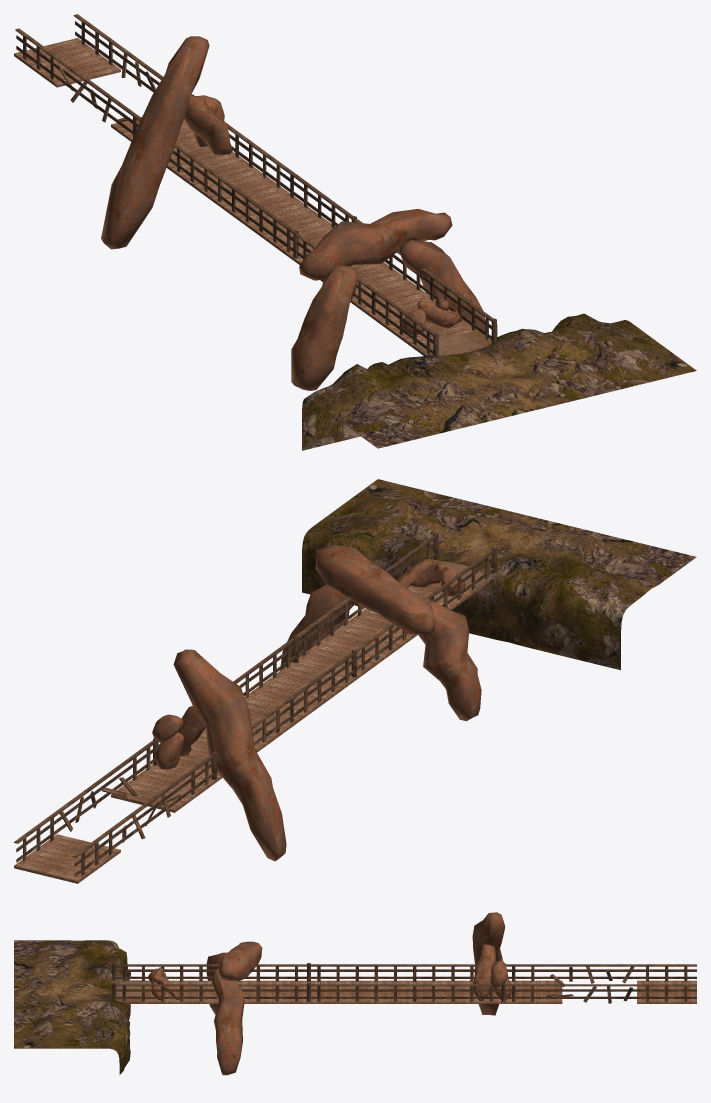
The model's file is bridge.fbx.
3 views of the same model, one above another, from view 1: azimuth 30°, elevation 25°; view 2: azimuth 150°, elevation 25°; view 3: azimuth 270°, elevation 25° (orthographic). The views are drawn at different scales.
Visible parts, largest first — view 1: Bridge start, slide stones, cross slides, Bridge, Broken Bridge, jump stones; view 2: Bridge start, slide stones, cross slides, Broken Bridge, Bridge, jump stones; view 3: Bridge start, Bridge, Broken Bridge, slide stones, cross slides, jump stones.
Part boxes in pixels (left/top/right/bottom): Bridge start: left=294, top=219, right=696, bottom=450; slide stones: left=291, top=208, right=485, bottom=390; cross slides: left=101, top=36, right=232, bottom=249; Bridge: left=166, top=121, right=356, bottom=260; Broken Bridge: left=14, top=14, right=198, bottom=150; jump stones: left=402, top=297, right=461, bottom=335; Bridge start: left=296, top=479, right=696, bottom=678; slide stones: left=280, top=545, right=481, bottom=721; cross slides: left=152, top=649, right=286, bottom=861; Broken Bridge: left=14, top=737, right=217, bottom=883; Bridge: left=158, top=635, right=357, bottom=780; jump stones: left=396, top=559, right=465, bottom=596; Bridge start: left=14, top=940, right=307, bottom=1074; Bridge: left=307, top=963, right=502, bottom=1003; Broken Bridge: left=501, top=963, right=696, bottom=1003; slide stones: left=206, top=941, right=262, bottom=1075; cross slides: left=472, top=912, right=511, bottom=1015; jump stones: left=148, top=967, right=179, bottom=1000.
Size of the model in its own units: 20.09 by 11.36 by 53.58.
1 material, 1 textured.
